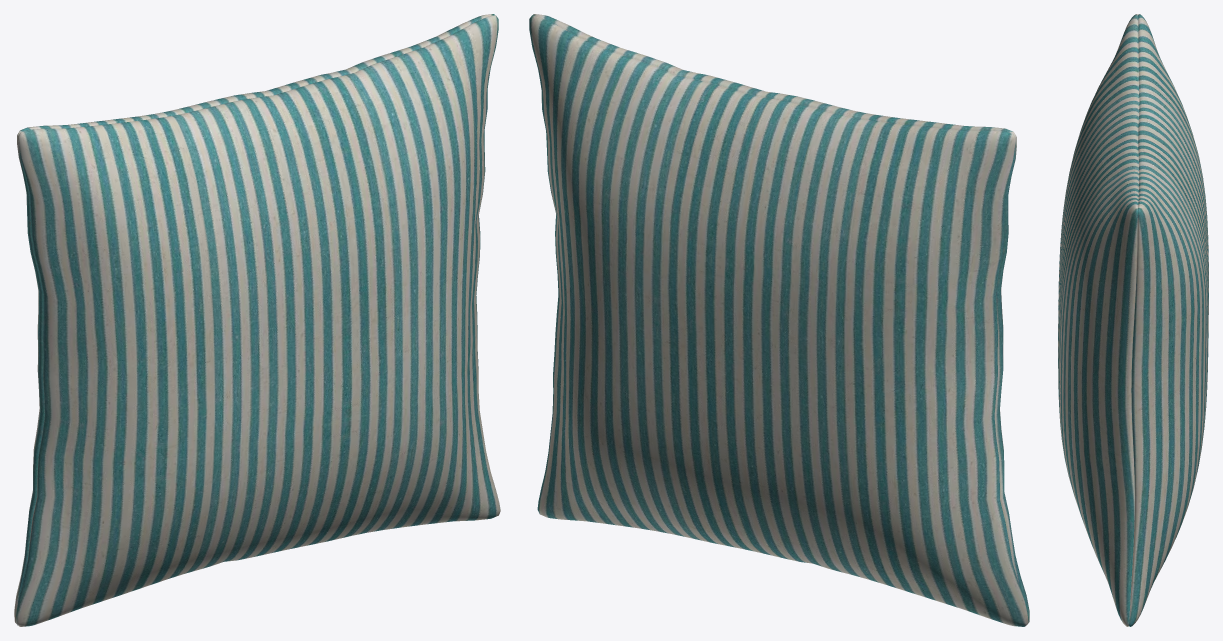
3 views of the same model, side by side, from view 1: azimuth 30°, elevation 25°; view 2: azimuth 150°, elevation 25°; view 3: azimuth 270°, elevation 25° (orthographic). The views are drawn at different scales.
Visible parts, largest first — view 1: RootNode; view 2: RootNode; view 3: RootNode.
Boxes of the visible parts, left/top/right/bottom form: RootNode: left=14, top=14, right=500, bottom=626; RootNode: left=529, top=14, right=1029, bottom=626; RootNode: left=1058, top=14, right=1208, bottom=626.
Size of the model in its own units: 0.5234 by 0.5104 by 0.1659.
Materials: 1 (1 with a texture image).
